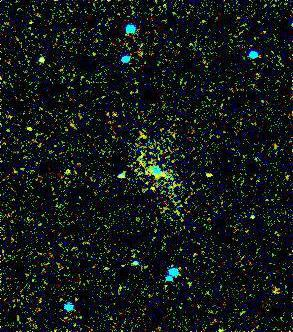star: (190, 158, 220, 188)
